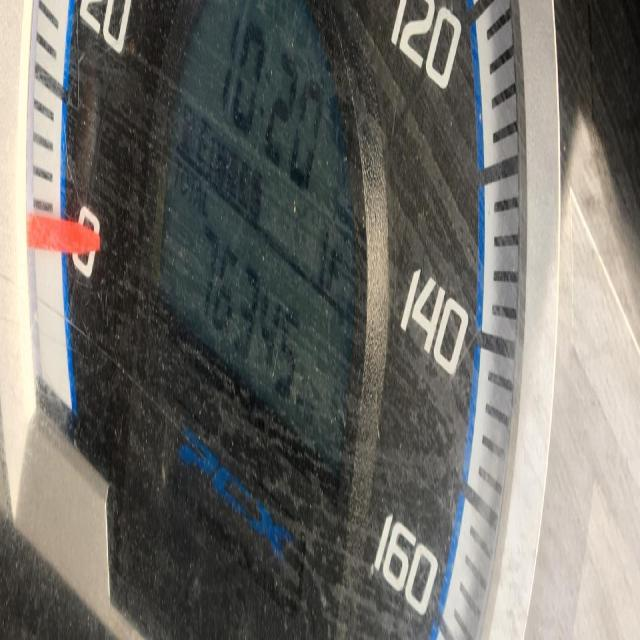odometer: (151, 1, 364, 481)
